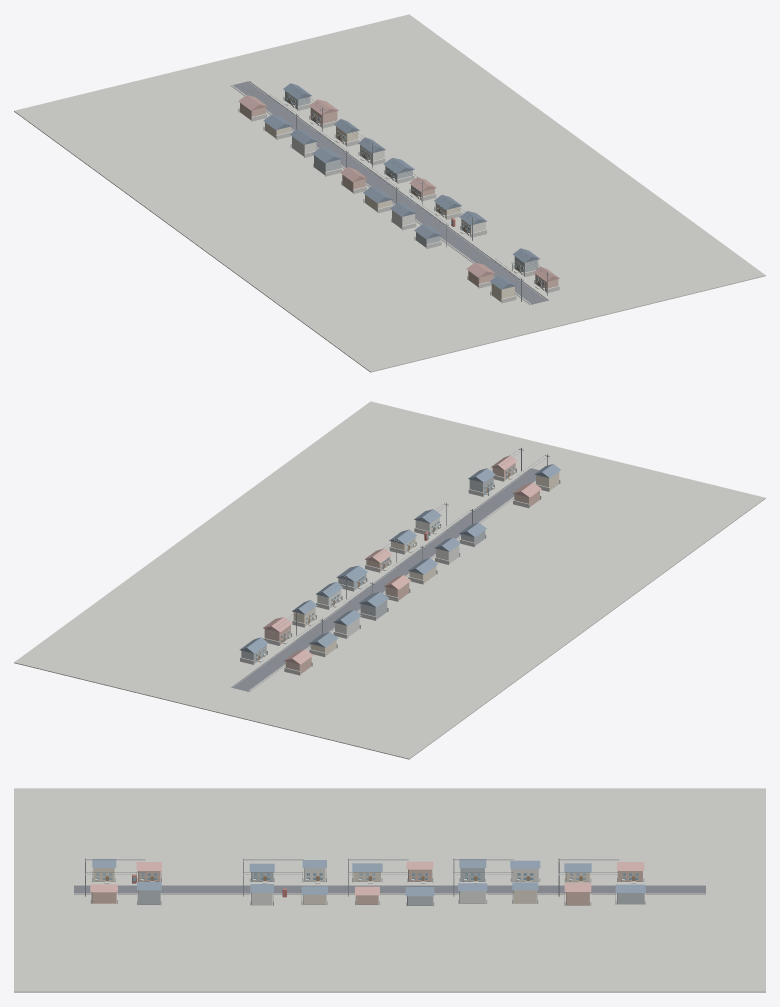
Rendered from residential_day_road.glb.
The picture shows the model from 3 angles, top to bottom: view 1: azimuth 30°, elevation 25°; view 2: azimuth 150°, elevation 25°; view 3: azimuth 270°, elevation 25°; orthographic projection. The views are drawn at different scales.
Parts seen in each view (by area): view 1: Static.Pavement, Static.Asphalt, Static.Roof, Static.Concrete, Static.Roof.pink, Static.Wall.peach, Static.Wall.silver, Static.Wall.cream, Static.Wall.ivory, Static.Steel; view 2: Static.Pavement, Static.Asphalt, Static.Roof, Static.Concrete, Static.Roof.pink, Static.Wall.peach, Static.Wall.silver, Static.Wall.cream, Static.Wall.ivory, Static.Steel; view 3: Static.Pavement, Static.Roof, Static.Asphalt, Static.Concrete, Static.Roof.pink, Static.Wall.peach, Static.Steel, Static.Wall.silver, Static.Wall.cream, Static.Wall.ivory, Static.Line, Static.Frame (+1 smaller).
Boxes of the visible parts, x1,y1,x2,y2 form: Static.Pavement: (14, 14, 765, 372); Static.Asphalt: (232, 81, 547, 304); Static.Roof: (263, 83, 539, 289); Static.Concrete: (230, 80, 559, 304); Static.Roof.pink: (238, 95, 559, 281); Static.Wall.peach: (240, 103, 558, 291); Static.Wall.silver: (285, 91, 538, 275); Static.Wall.cream: (265, 122, 514, 301); Static.Wall.ivory: (292, 136, 485, 236); Static.Steel: (267, 88, 549, 301); Static.Pavement: (14, 401, 765, 759); Static.Asphalt: (232, 468, 539, 691); Static.Roof: (240, 464, 560, 653); Static.Concrete: (230, 467, 560, 691); Static.Roof.pink: (263, 455, 541, 664); Static.Wall.peach: (264, 463, 539, 673); Static.Wall.silver: (241, 476, 493, 663); Static.Wall.cream: (293, 472, 559, 655); Static.Wall.ivory: (317, 517, 459, 637); Static.Steel: (265, 447, 549, 655); Static.Pavement: (14, 788, 765, 992); Static.Roof: (92, 859, 645, 896); Static.Asphalt: (74, 885, 705, 893); Static.Concrete: (74, 869, 705, 906); Static.Roof.pink: (90, 861, 644, 895); Static.Wall.peach: (91, 869, 642, 905); Static.Steel: (85, 858, 623, 896); Static.Wall.silver: (138, 868, 644, 905); Static.Wall.cream: (93, 868, 590, 904); Static.Wall.ivory: (251, 868, 538, 905); Static.Line: (74, 885, 705, 893); Static.Frame: (85, 859, 638, 881).
Size of the model in its own units: 64 by 3.73 by 100.
